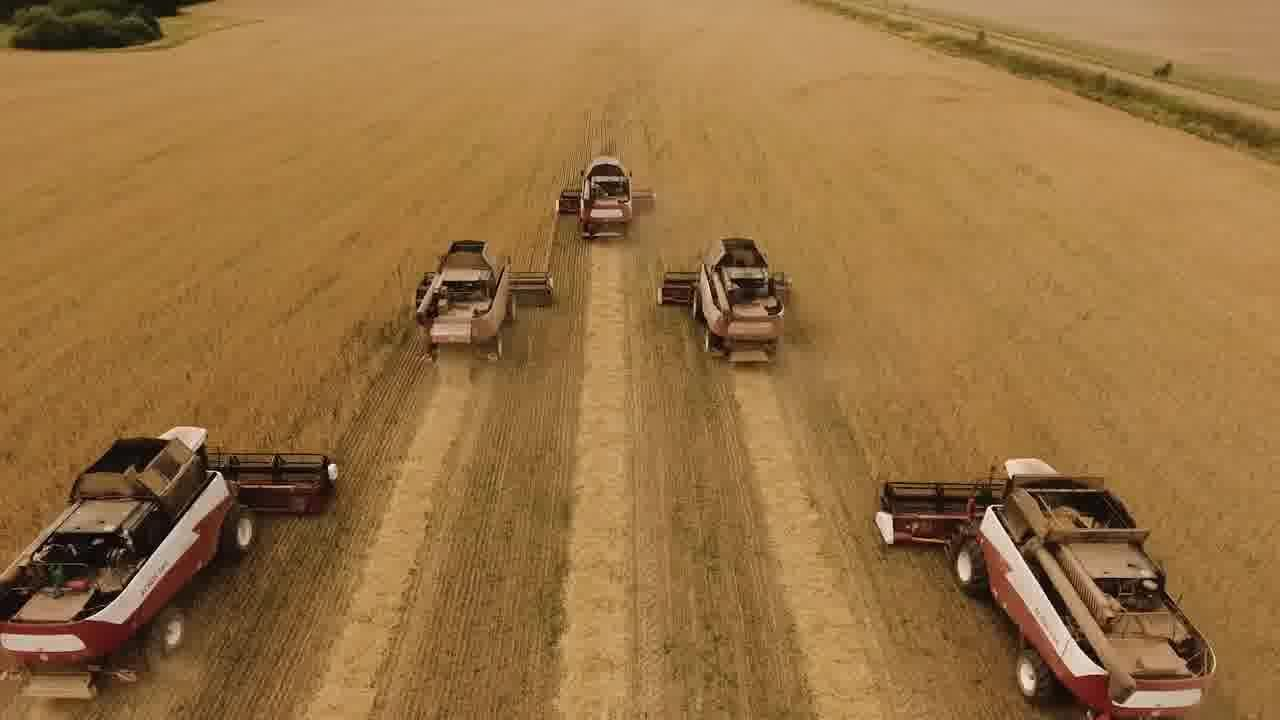combine harvester: (0, 424, 344, 703), (875, 454, 1223, 720), (659, 231, 797, 374), (411, 238, 556, 361), (554, 153, 657, 244)
